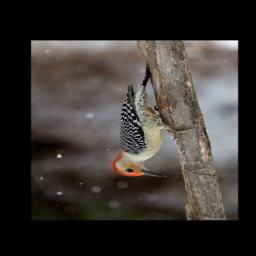Woodpecker: (112, 64, 197, 178)
